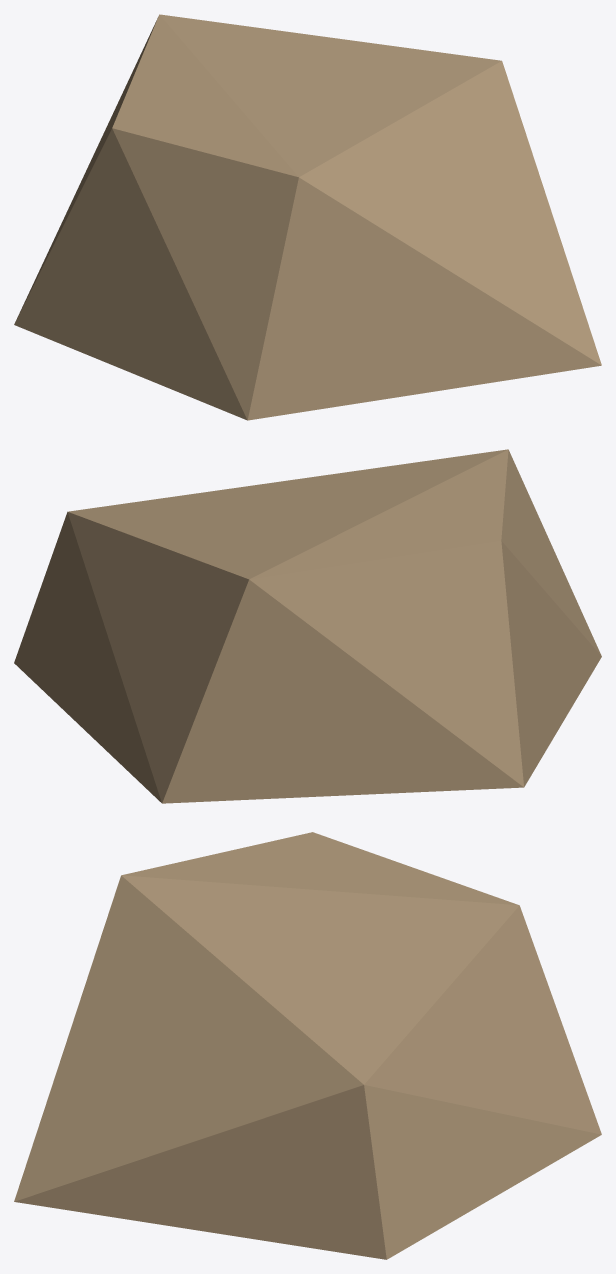
Rendered from TB_D_Env_StoneE_B.FBX.
3 views of the same model, one above another, from view 1: azimuth 30°, elevation 25°; view 2: azimuth 150°, elevation 25°; view 3: azimuth 270°, elevation 25° (orthographic).
Visible parts, largest first — view 1: TB_D_Env_StoneE_B; view 2: TB_D_Env_StoneE_B; view 3: TB_D_Env_StoneE_B.
Boxes of the visible parts, left/top/right/bottom form: TB_D_Env_StoneE_B: left=14, top=14, right=601, bottom=420; TB_D_Env_StoneE_B: left=14, top=449, right=601, bottom=803; TB_D_Env_StoneE_B: left=14, top=832, right=601, bottom=1259.
Size of the model in its own units: 0.5049 by 0.1944 by 0.5011.
